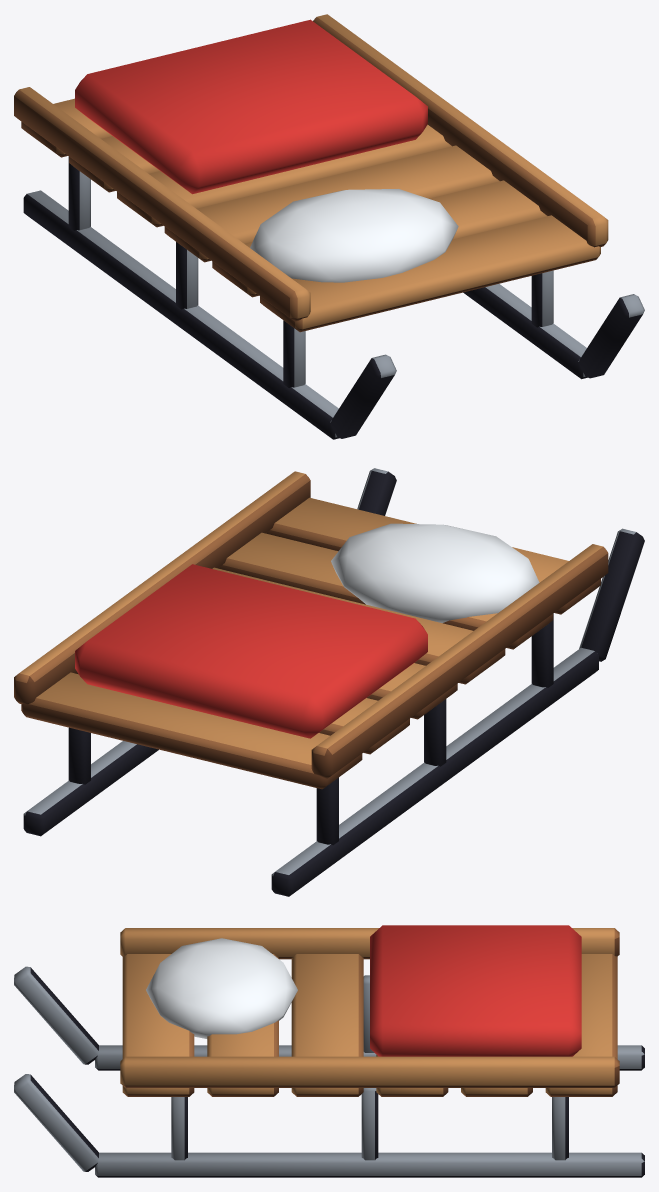
The model's file is Sled.fbx.
The picture shows the model from 3 angles, top to bottom: view 1: azimuth 30°, elevation 25°; view 2: azimuth 150°, elevation 25°; view 3: azimuth 270°, elevation 25°; orthographic projection. The views are drawn at different scales.
Visible parts, largest first — view 1: Sled; view 2: Sled; view 3: Sled.
Boxes of the visible parts, x1,y1,x2,y2 form: Sled: (14, 14, 644, 439); Sled: (14, 468, 644, 896); Sled: (14, 925, 644, 1177).
Size of the model in its own units: 0.77 by 0.385 by 1.49.
Materials: 1 (1 with a texture image).
